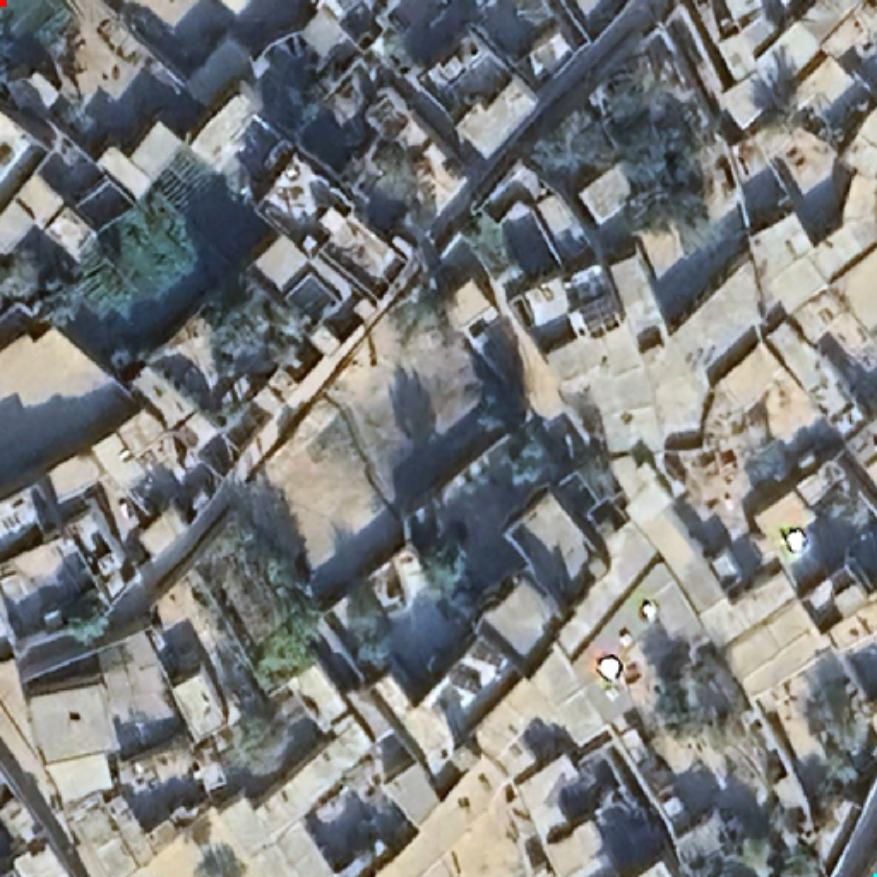Solarpanel: (577, 291, 623, 343), (0, 510, 23, 530)
